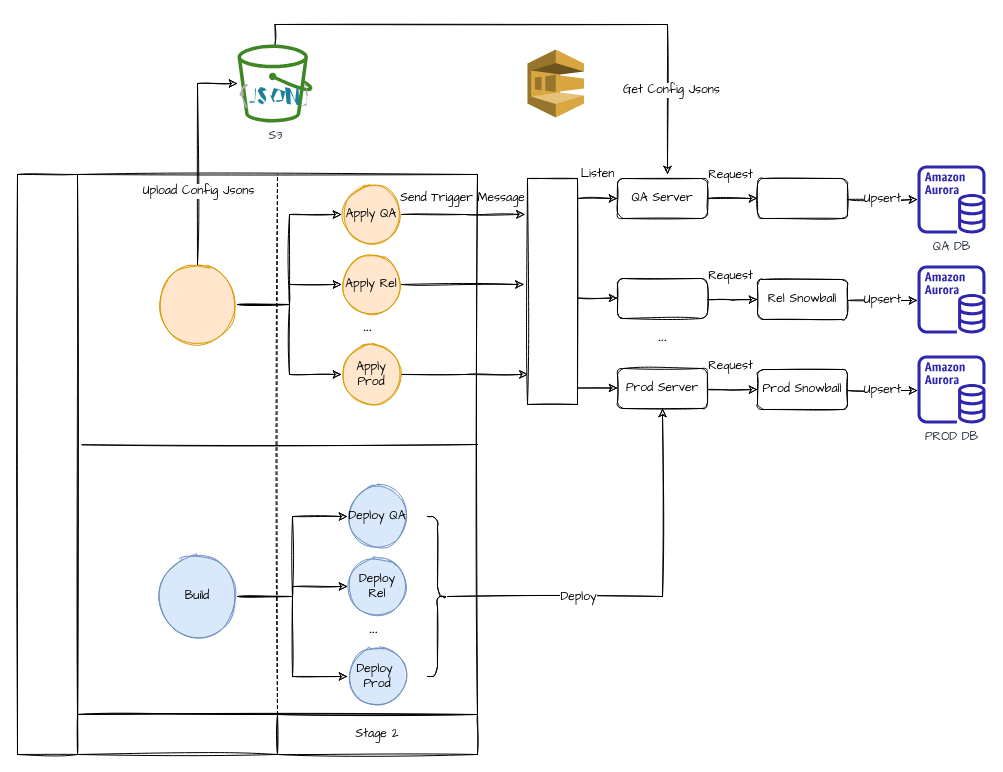
Some shapes in this 1003 by 772 pixel diagram are drawn without their labels. The shapes that lost their labels are listed below. From the top down, each one's centre as x and y in pixels, then its label:
the point at 555,83: SQS
the point at 802,198: QA Snowball
the point at 197,304: Push Configs
the point at 552,291: M E S S A G E
the point at 662,298: Rel Server
the point at 951,299: REL DB
the point at 47,464: GIT PIPELINE
the point at 177,734: Stage 1
